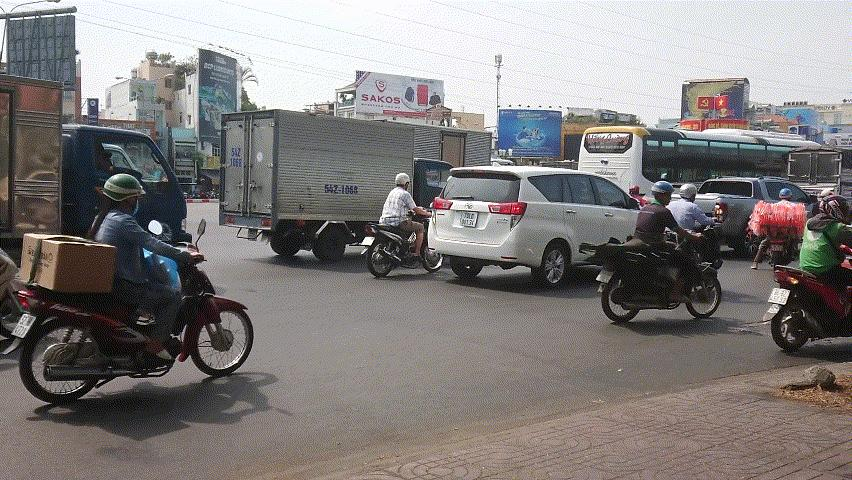driver: (0, 174, 255, 406), (585, 181, 723, 326), (761, 194, 852, 352), (360, 173, 444, 278)
helmet: (101, 173, 147, 217), (819, 194, 850, 224), (650, 180, 675, 206), (680, 183, 698, 203), (395, 173, 411, 191), (778, 188, 793, 201)
